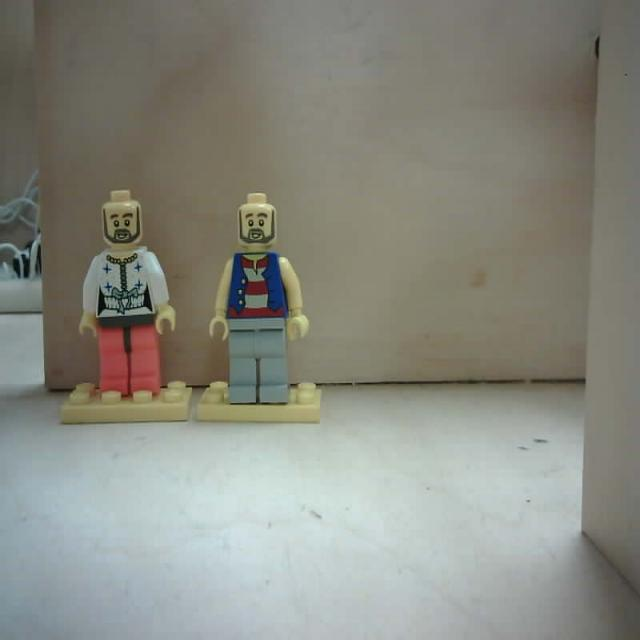Lego-People: (58, 188, 193, 426), (190, 193, 321, 429)
